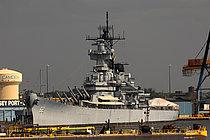MIL_Ship: (25, 28, 180, 124)
